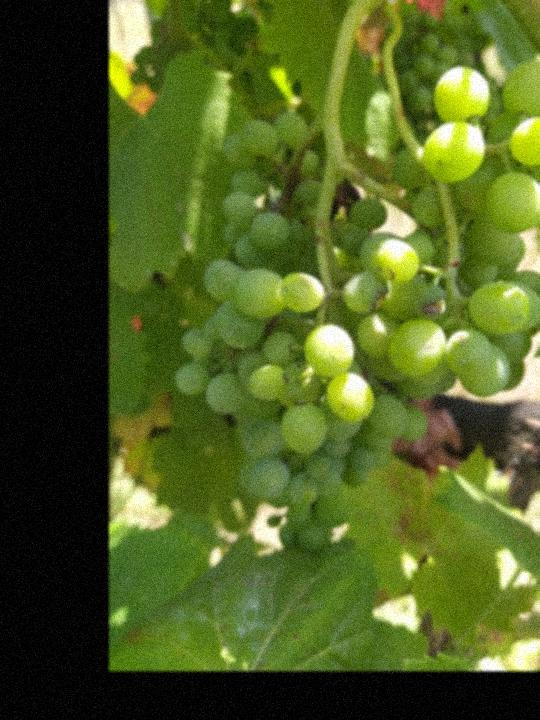grape: (172, 59, 540, 554)
